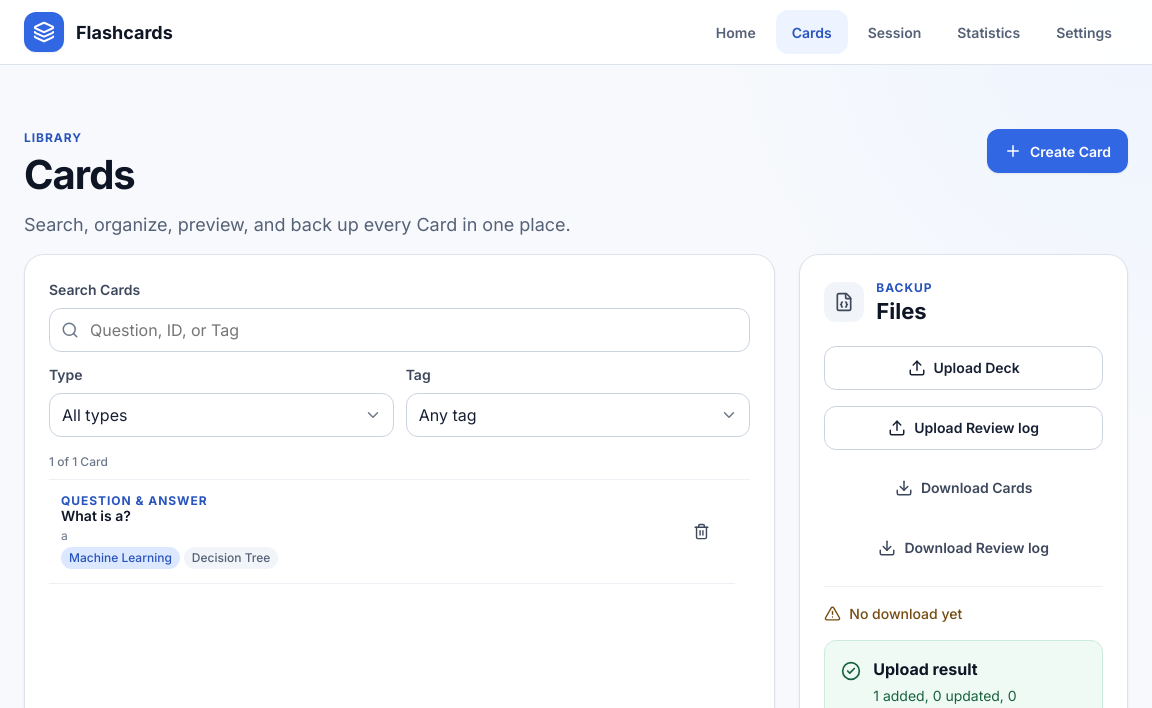
Home shows neither the Card list, Delete all Cards nor the Files panel
Earlier steps of the test are not shown.
Click the button "Home": click(736, 32) [700, 10, 772, 54]
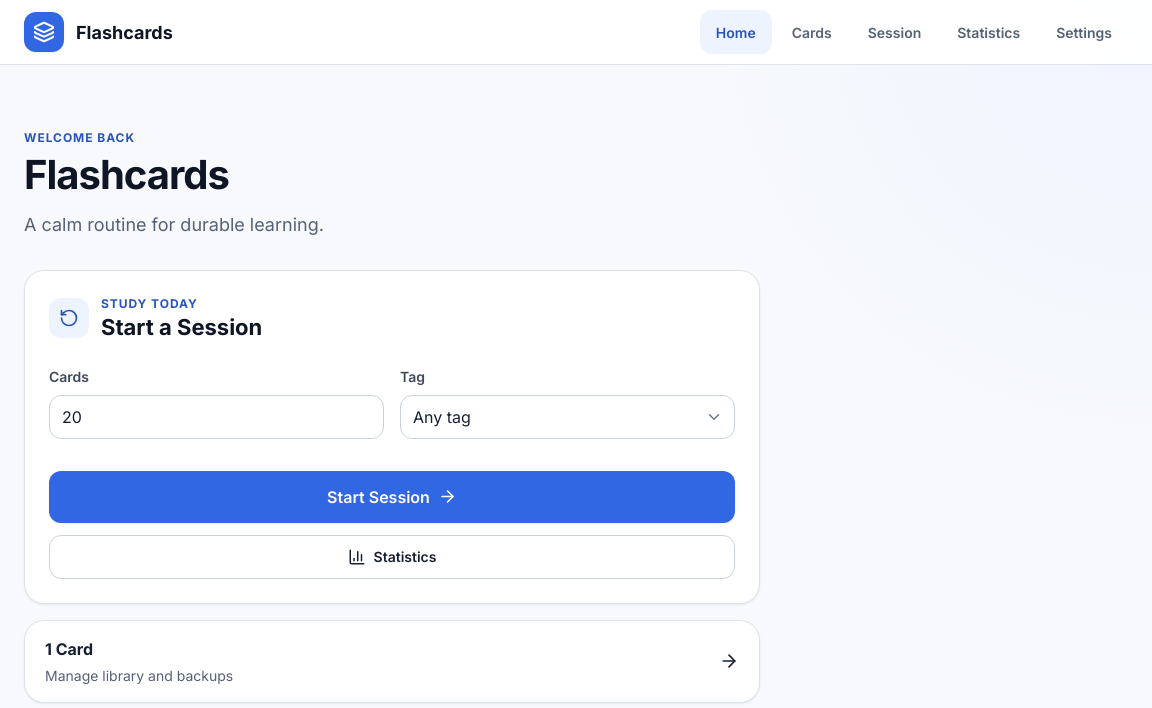
Expected: the button "What is a?" is gone
Expected: the file field labelled "Upload Deck" is gone
Expected: the file field labelled "Upload Review log" is gone
